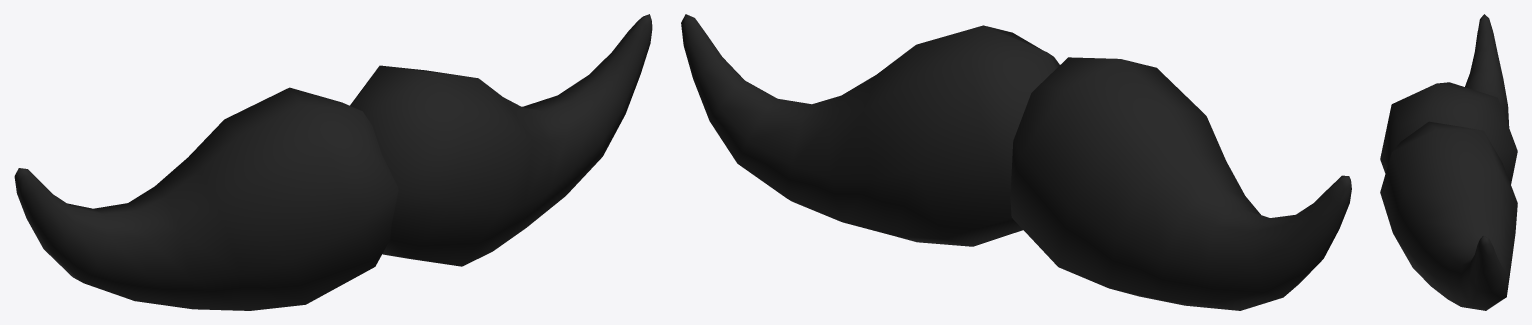
File: Mustache_Black_010.glb
The picture shows the model from 3 angles, left to right: view 1: azimuth 30°, elevation 25°; view 2: azimuth 150°, elevation 25°; view 3: azimuth 270°, elevation 25°; orthographic projection. The views are drawn at different scales.
Visible parts, largest first — view 1: Mustache_Black_010; view 2: Mustache_Black_010; view 3: Mustache_Black_010.
Part boxes in pixels (bbox=[...]): Mustache_Black_010: bbox=[14, 14, 652, 310]; Mustache_Black_010: bbox=[681, 14, 1351, 310]; Mustache_Black_010: bbox=[1380, 14, 1517, 310].
Bounding box in the file's own units: 0.2652 × 0.0792 × 0.0686.
Materials: 1 (1 with a texture image).
